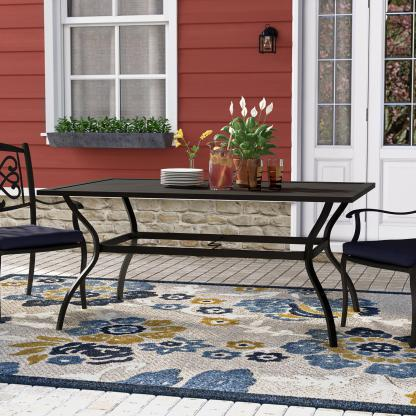table: (31, 171, 380, 350)
